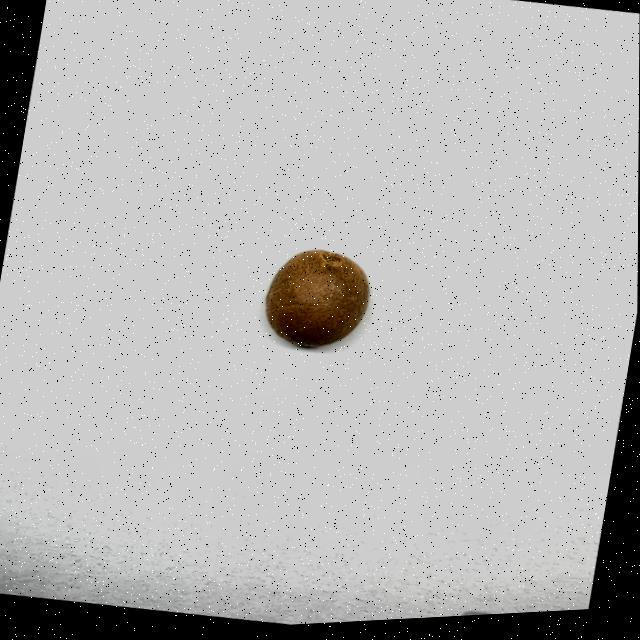Good bean: (258, 247, 377, 357)
